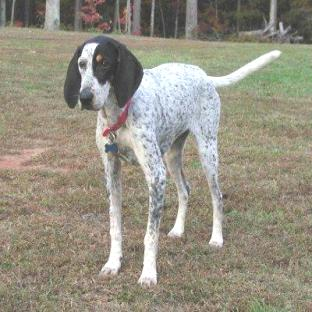Animal: (63, 35, 280, 285)
